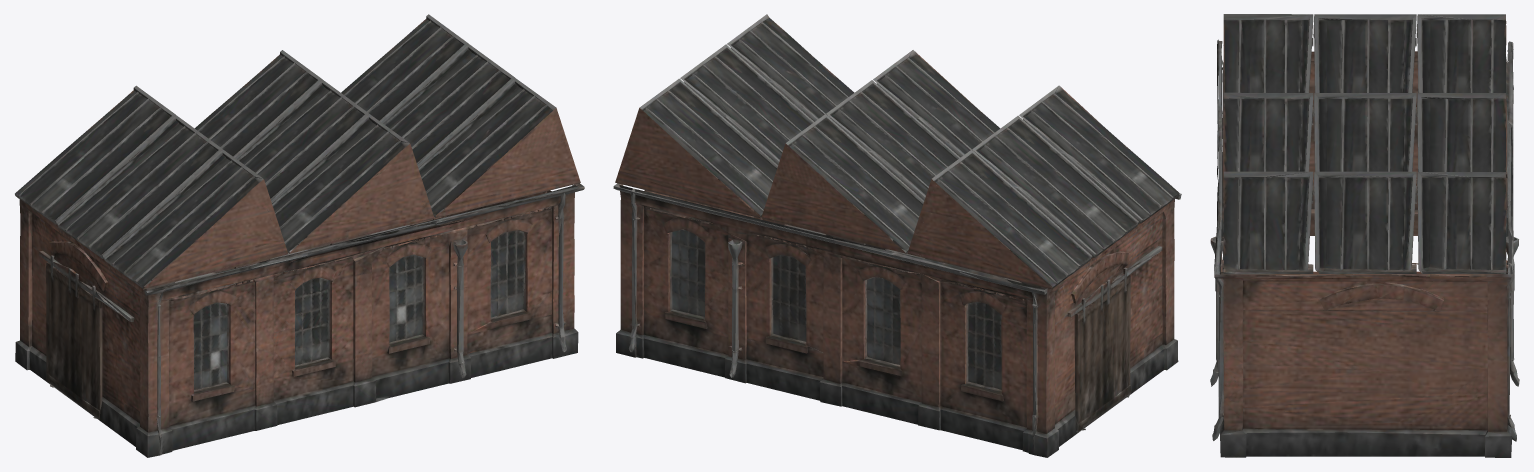
The model's file is sawtooth_hall.glb.
The picture shows the model from 3 angles, left to right: view 1: azimuth 30°, elevation 25°; view 2: azimuth 150°, elevation 25°; view 3: azimuth 270°, elevation 25°; orthographic projection. The views are drawn at different scales.
Visible parts, largest first — view 1: main; view 2: main; view 3: main.
Part boxes in pixels (<box>): main: <box>15,14,584,457</box>; main: <box>613,14,1181,457</box>; main: <box>1210,14,1519,457</box>.
Size of the model in its own units: 12 by 6.52 by 6.65.
Materials: 1 (1 with a texture image).
